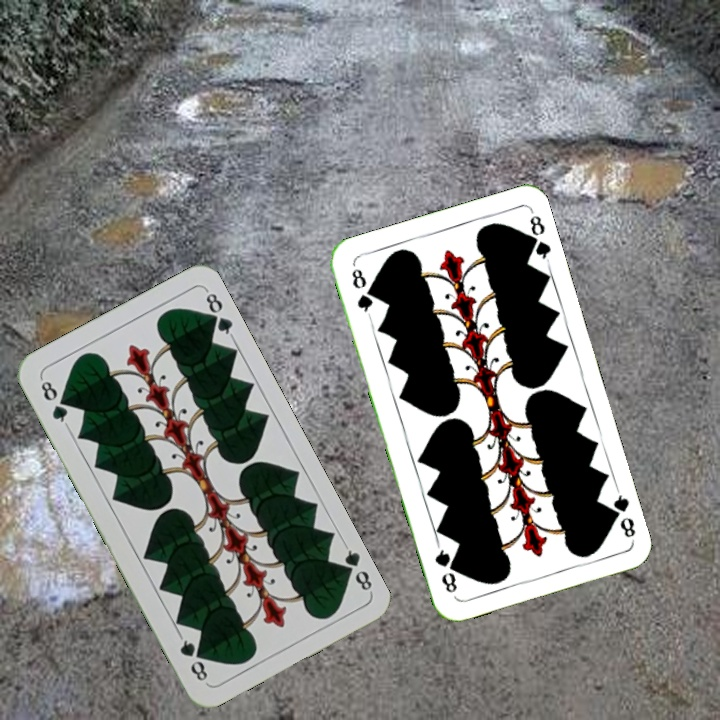G8: (335, 540, 375, 595), (604, 485, 638, 543), (36, 374, 71, 429), (347, 264, 375, 319)
